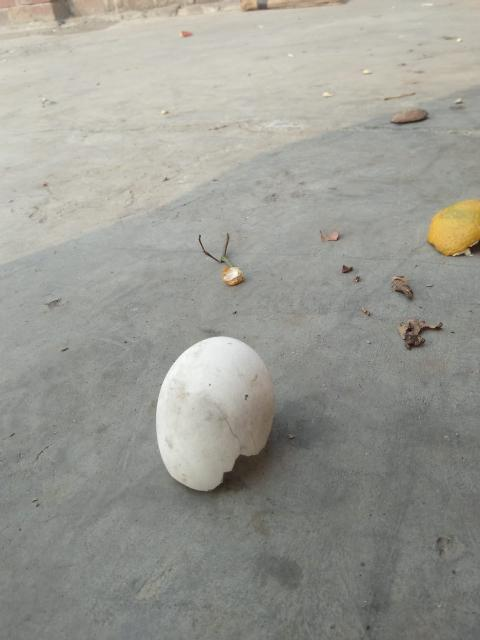Roto: (154, 335, 275, 492)
